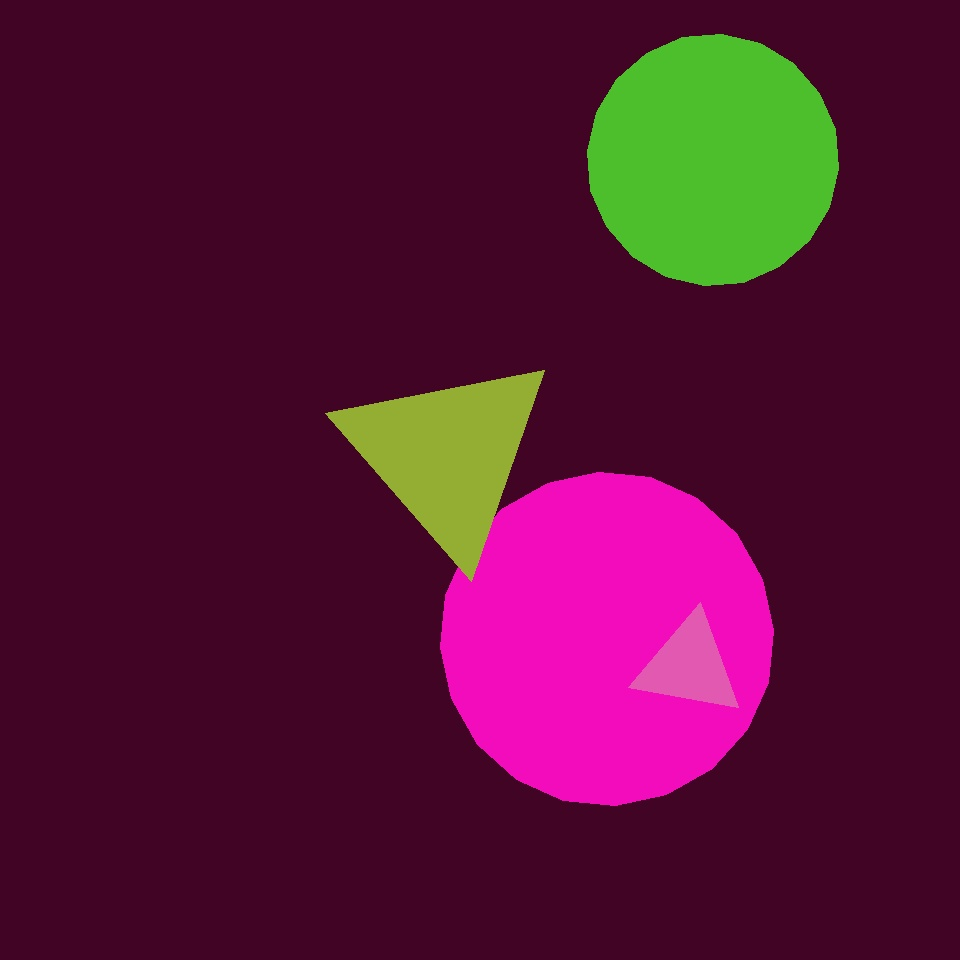circle: (338, 349, 556, 560), (686, 414, 842, 577), (634, 614, 744, 718)
triangle: (440, 472, 774, 806), (588, 34, 838, 286), (210, 416, 423, 629)
